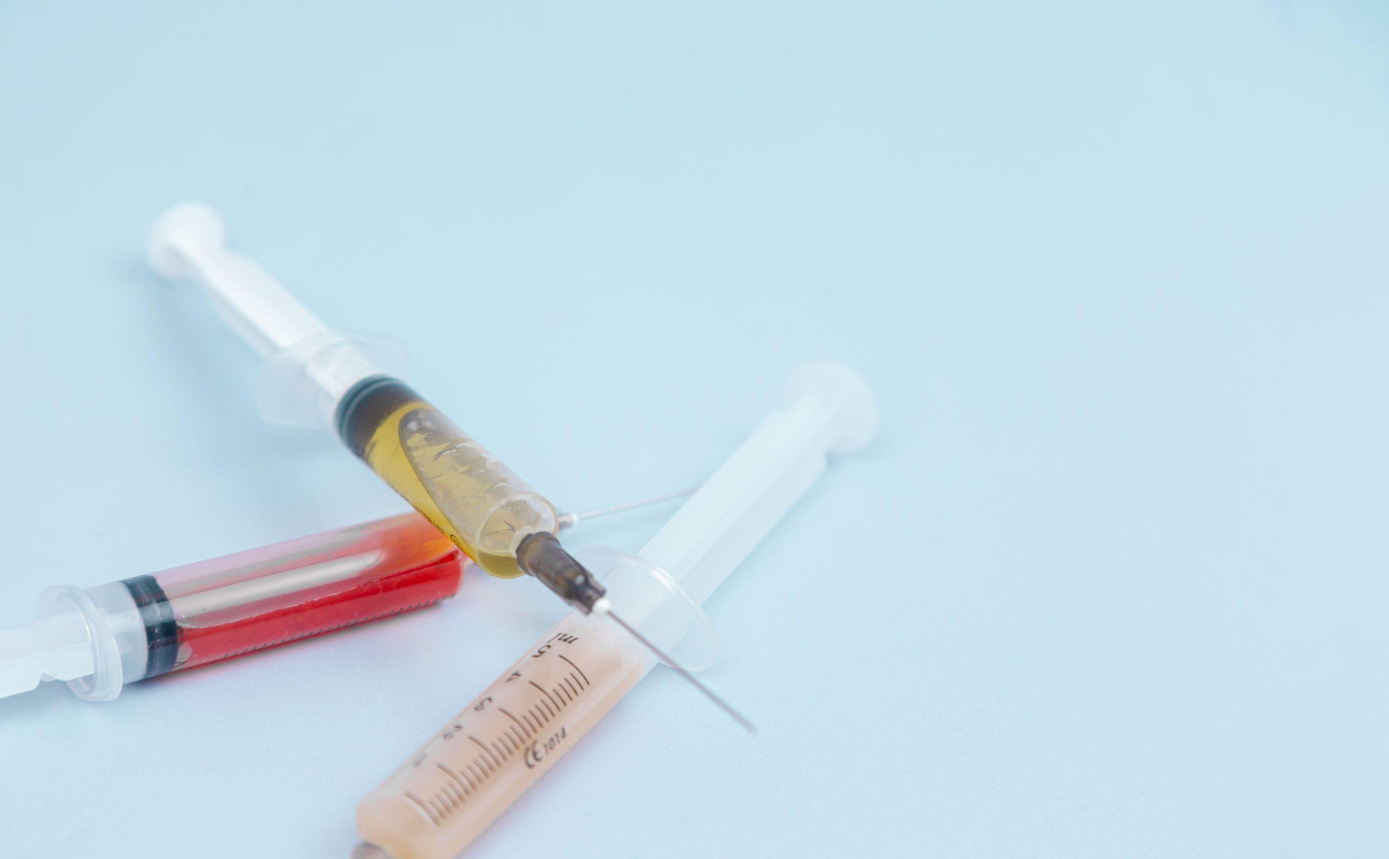Syringe: (149, 204, 604, 612), (580, 362, 877, 668), (0, 514, 466, 701)
